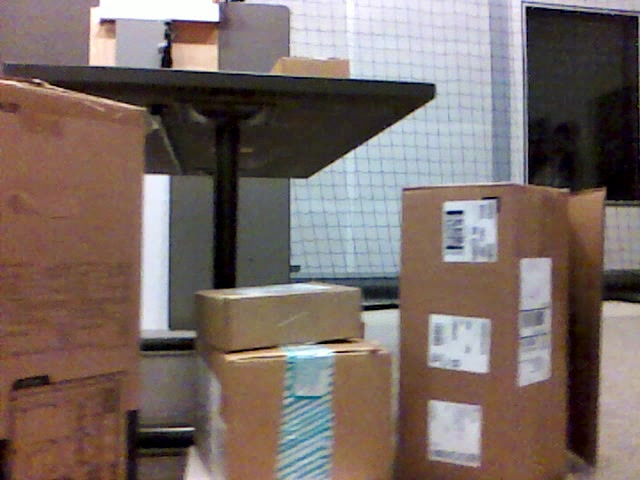box: (402, 184, 603, 480), (1, 77, 141, 478), (197, 337, 392, 478), (200, 283, 365, 346), (269, 57, 352, 76)
